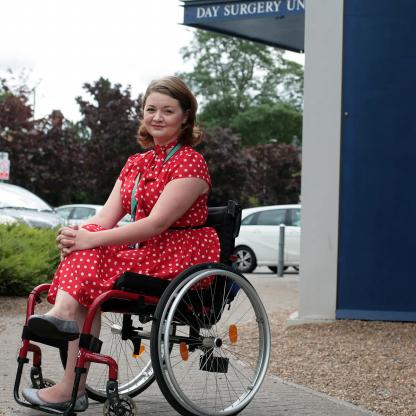wheelchair: (14, 80, 273, 416)
